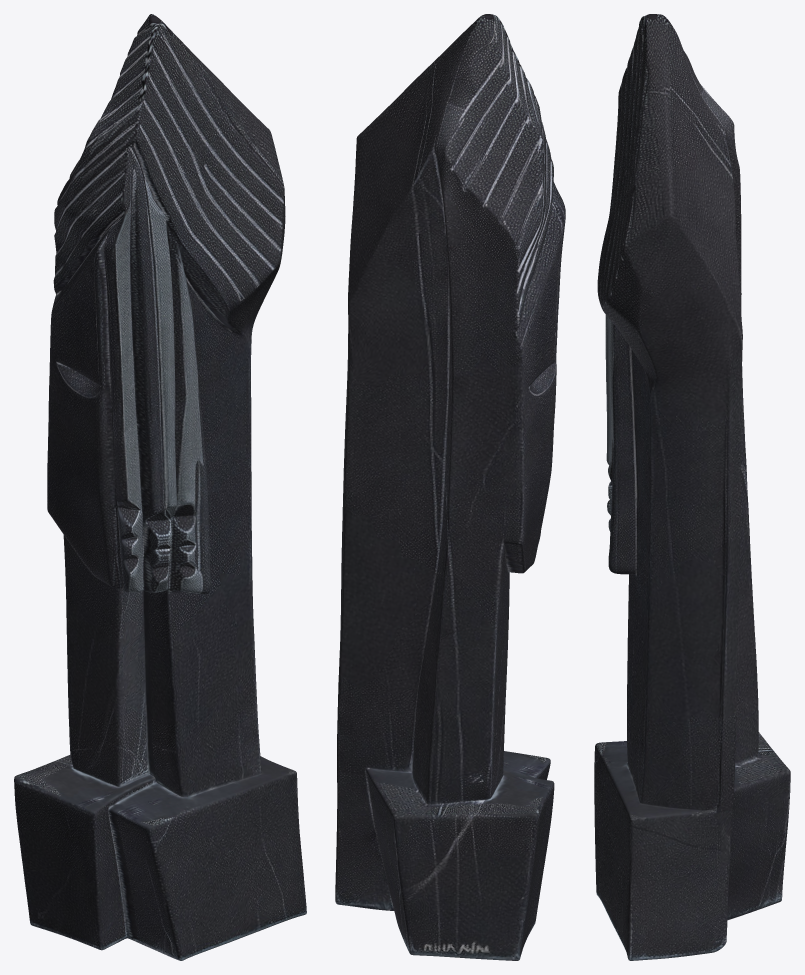
Rendered from polygamist-uploaded-v1.glb.
3 views of the same model, side by side, from view 1: azimuth 30°, elevation 25°; view 2: azimuth 150°, elevation 25°; view 3: azimuth 270°, elevation 25° (orthographic). The views are drawn at different scales.
Size of the model in its own units: 0.5362 by 2 by 0.4035.
1 material, 1 textured.
